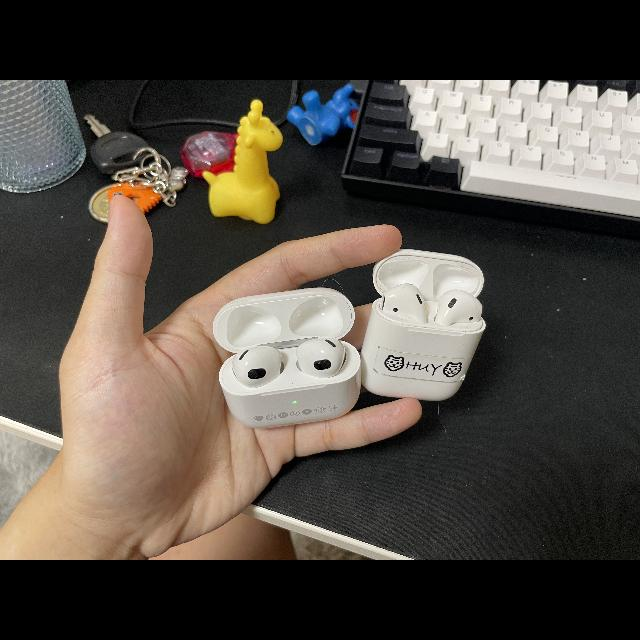airpod2: (361, 236, 494, 409)
airpod3: (211, 286, 367, 434)
